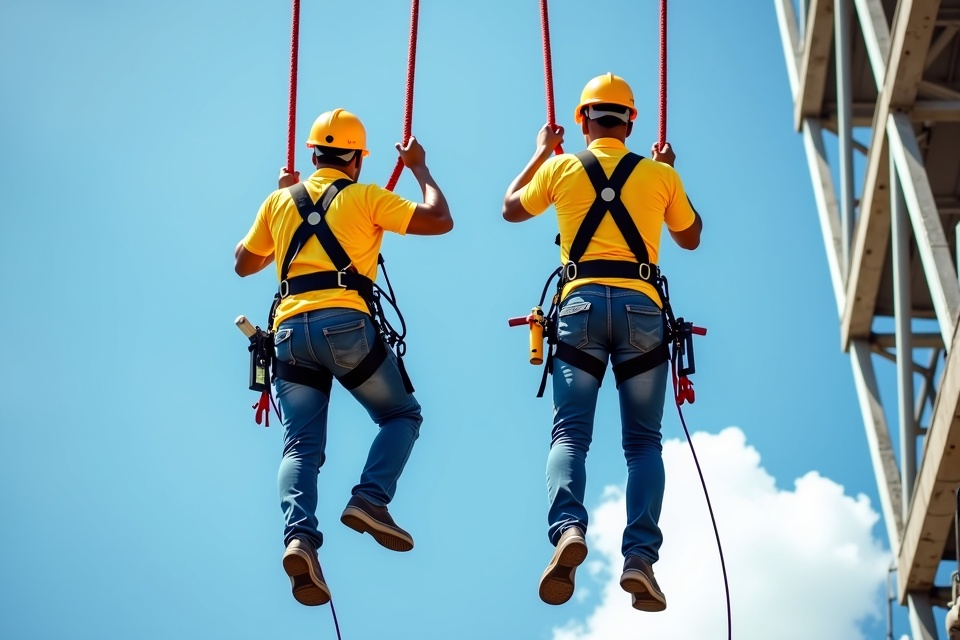safety belt: (543, 154, 685, 397), (250, 180, 395, 394)
